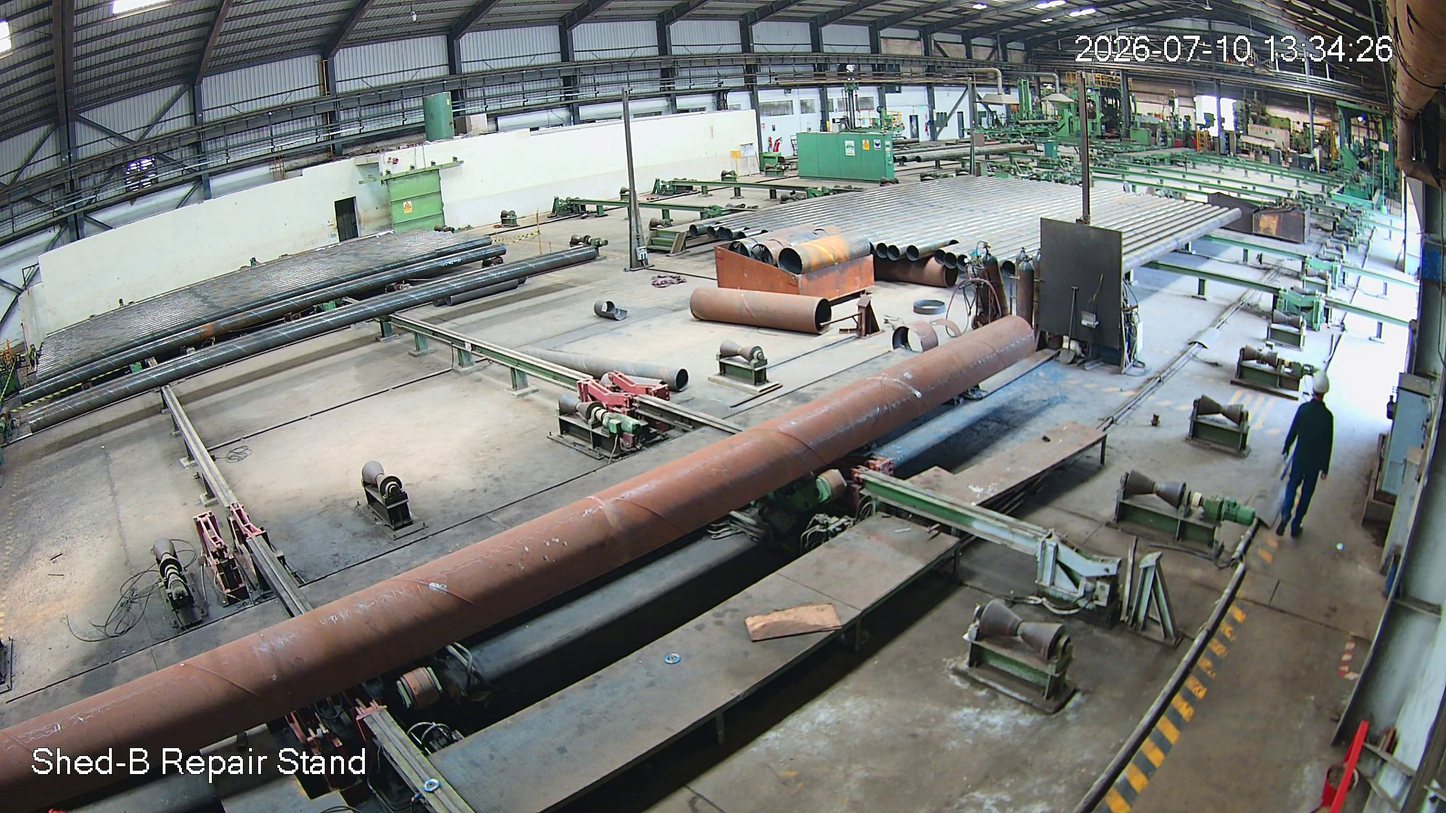Helmet: (1304, 366, 1339, 414)
Person: (1268, 372, 1339, 552)
